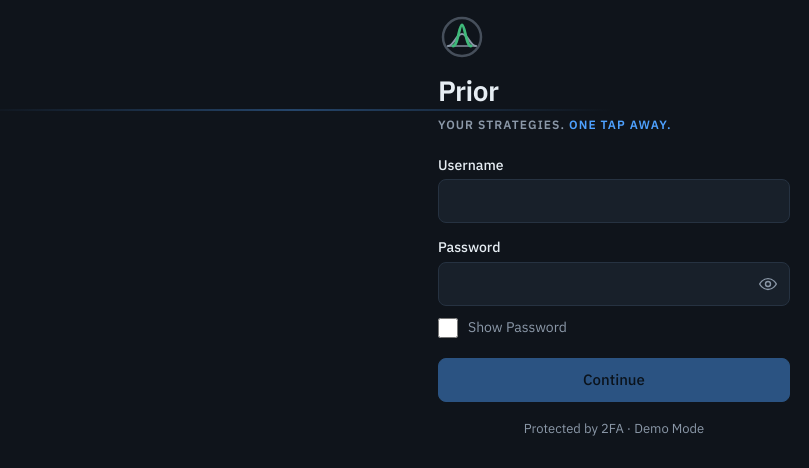
login: six-digit code step (item 29) › paste fills all six (spaces and dashes ignored) and enables Sign in
Type "demo-user" into the field labelled "Username" at [614, 201], box [438,179,790,223]
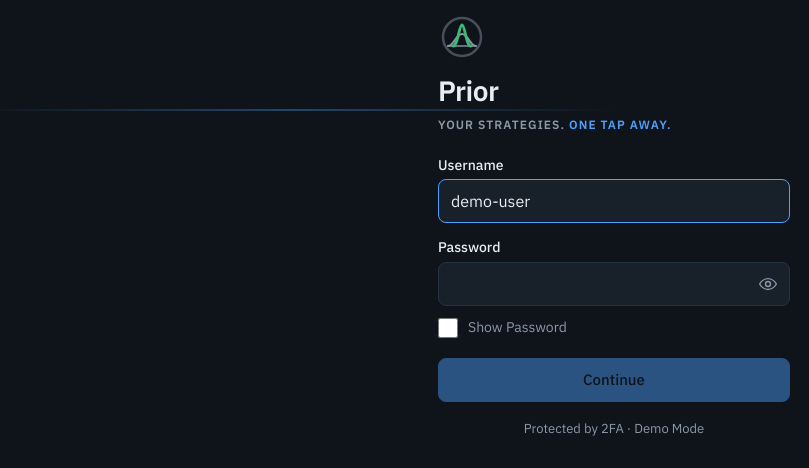
Type "hunter2" into the password field labelled "Password" at [614, 284], box [438,262,790,306]
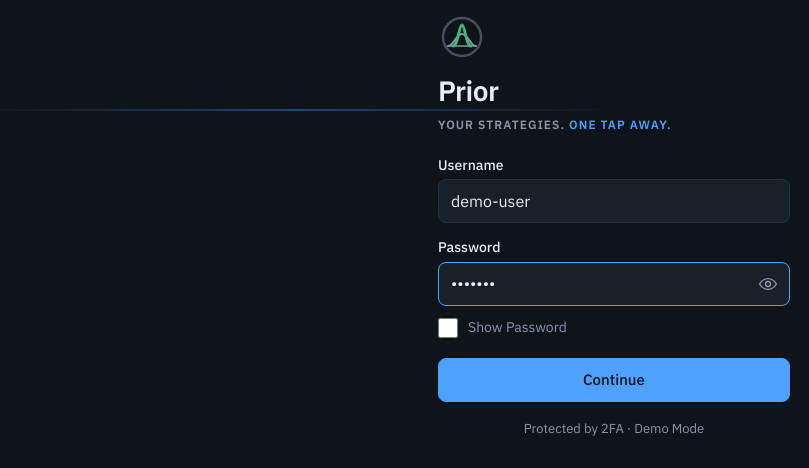
Click the button "Continue" at [614, 380], box [438,358,790,402]
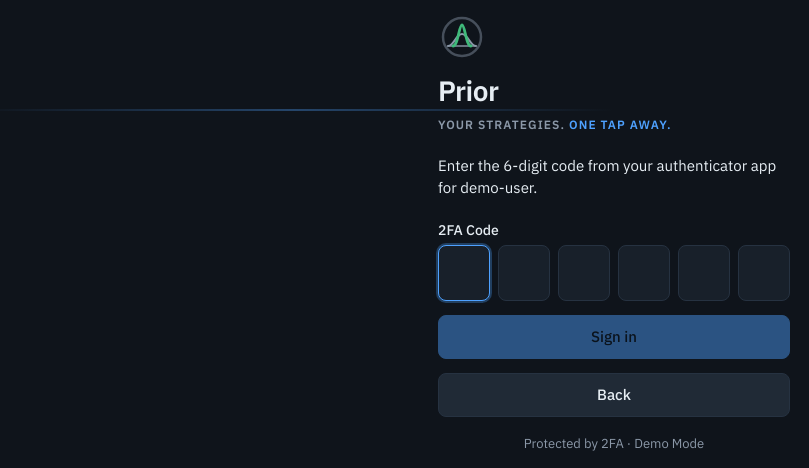
Type keys "123 456"
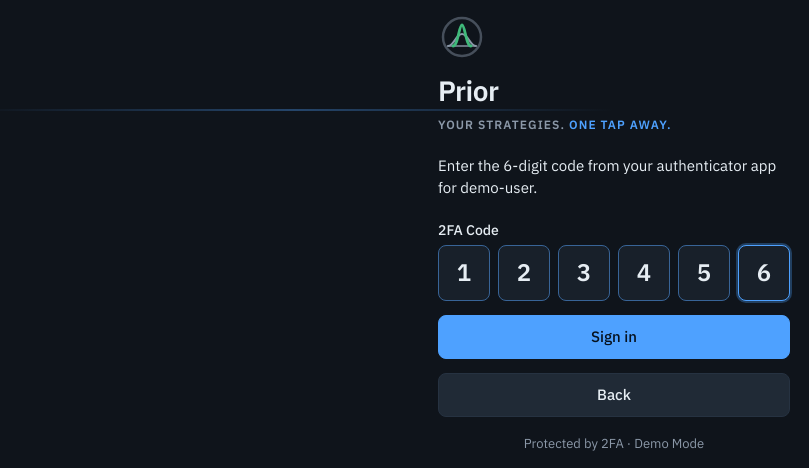
Check: the field named "6-digit code" holds "123456", box [438,245,790,301]
Check: the button "Sign in" is enabled, box [438,315,790,359]
